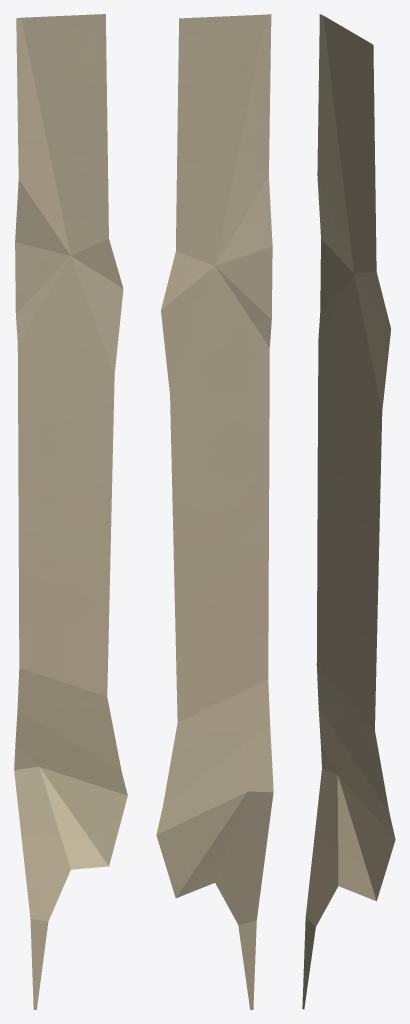
3 renders of one model, left to right at view 1: azimuth 30°, elevation 25°; view 2: azimuth 210°, elevation 25°; view 3: azimuth 330°, elevation 25°, orthographic. The views are drawn at different scales.
Bounding box in the file's own units: 0.0837 × 0.8374 × 0.0313.
Materials: 1 (1 with a texture image).
